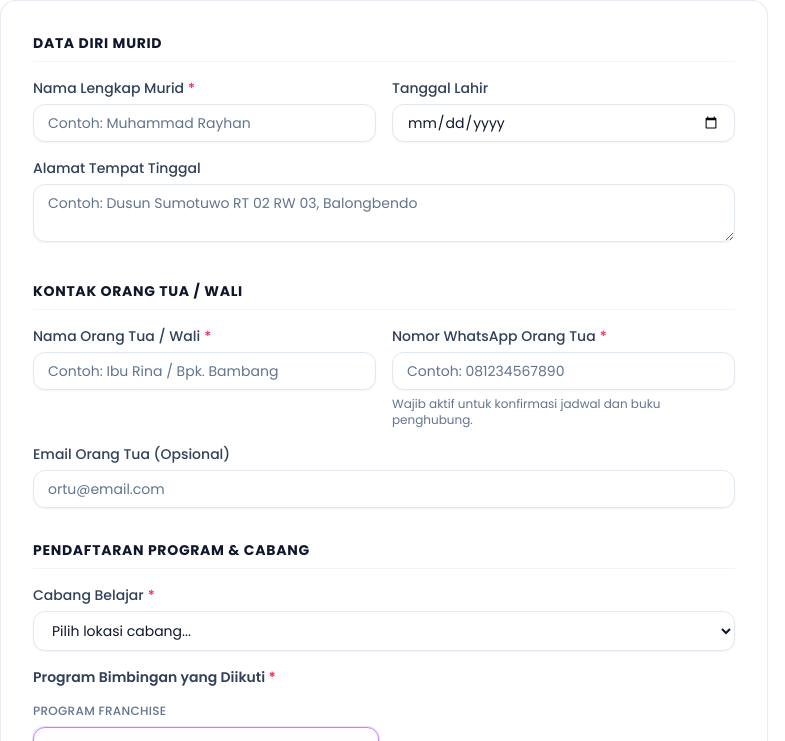
Test: Master Components (src/components/admin/[entity]/) › Murid Components › renders StudentForm and handles action errors
The image size is (785, 741).
Type "A" into the field labelled "Nama Lengkap Murid*" at (204, 123), box [33,104,376,142]
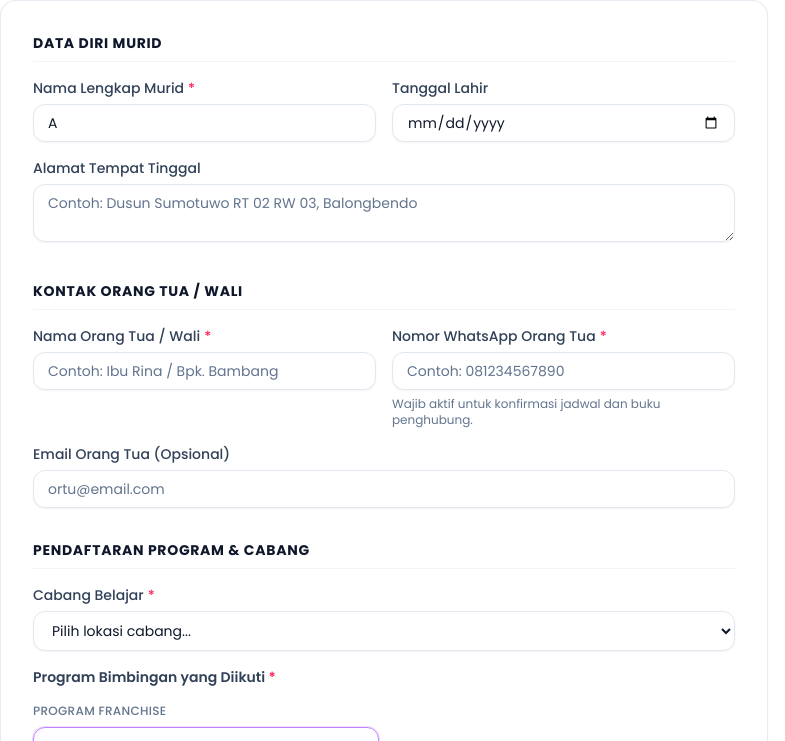
Type "Pak Joko" into the field labelled "Nama Orang Tua / Wali*" at (204, 371), box [33,352,376,390]
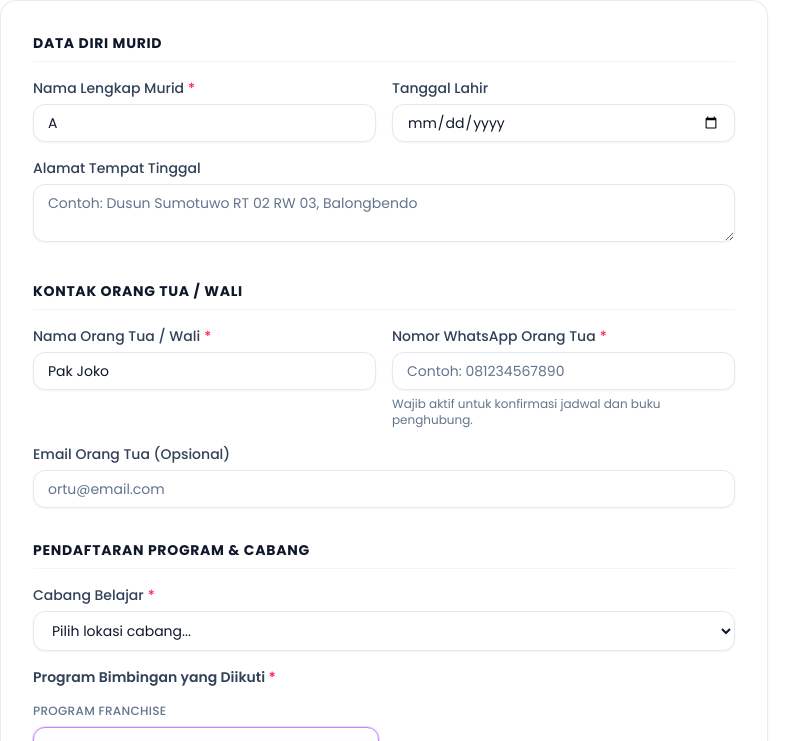
Type "08123456789" into the field labelled "Nomor WhatsApp Orang Tua*" at (564, 371), box [392,352,735,390]
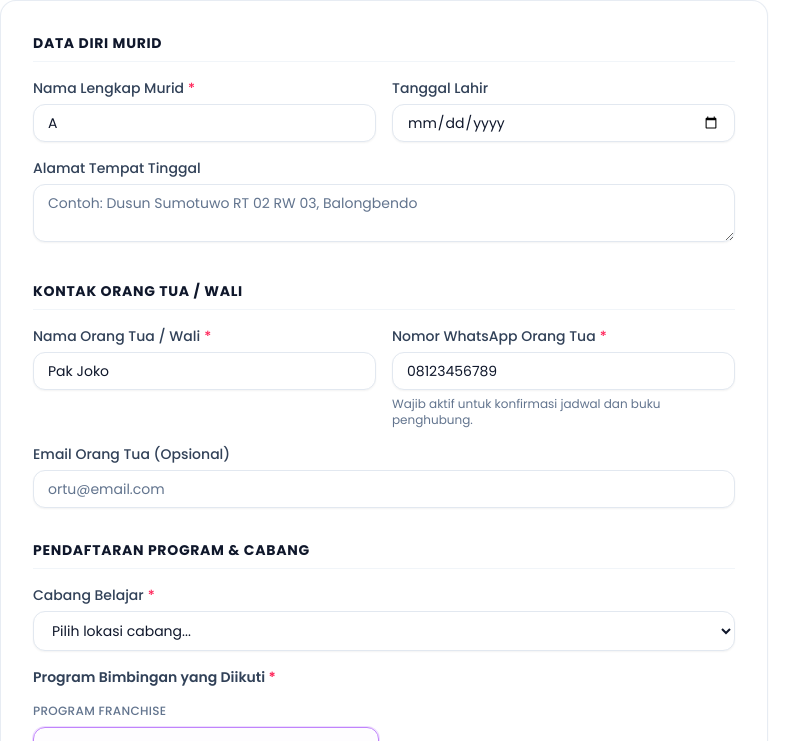
Select "Cabang Krian (Sentra Ahe)" in the dropdown labelled "Cabang Belajar*" at (384, 631), box [33,611,735,651]
(page scrolled)
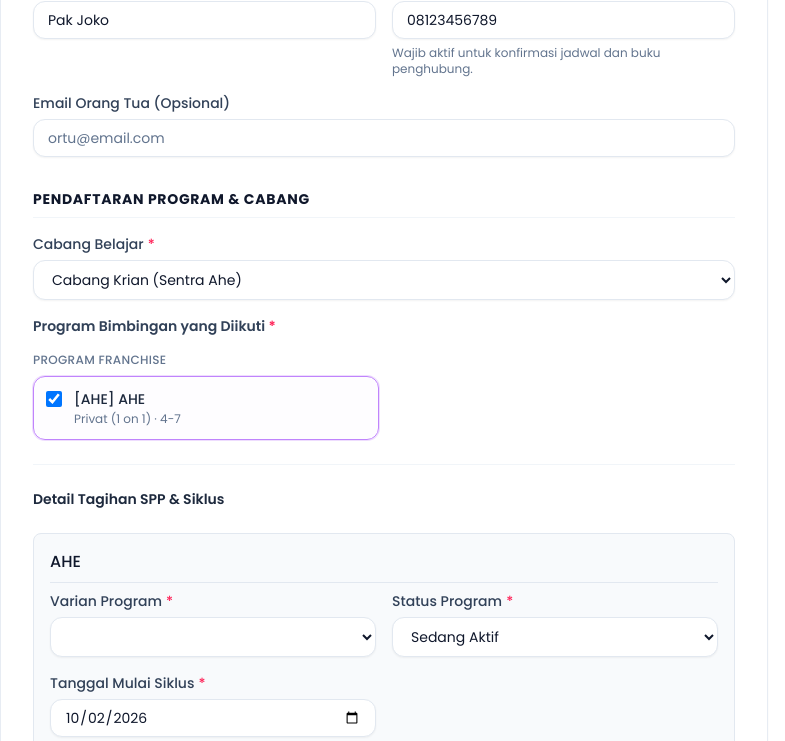
Submit the form
(page scrolled)
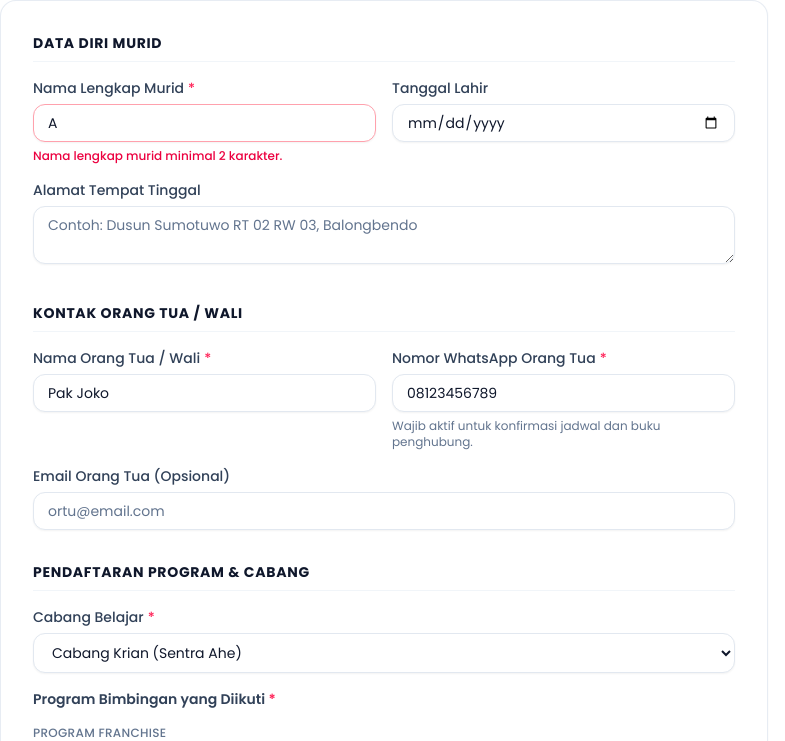
Now the text "Nama lengkap murid minimal 2 karakter." is shown, box [33,147,282,164]
